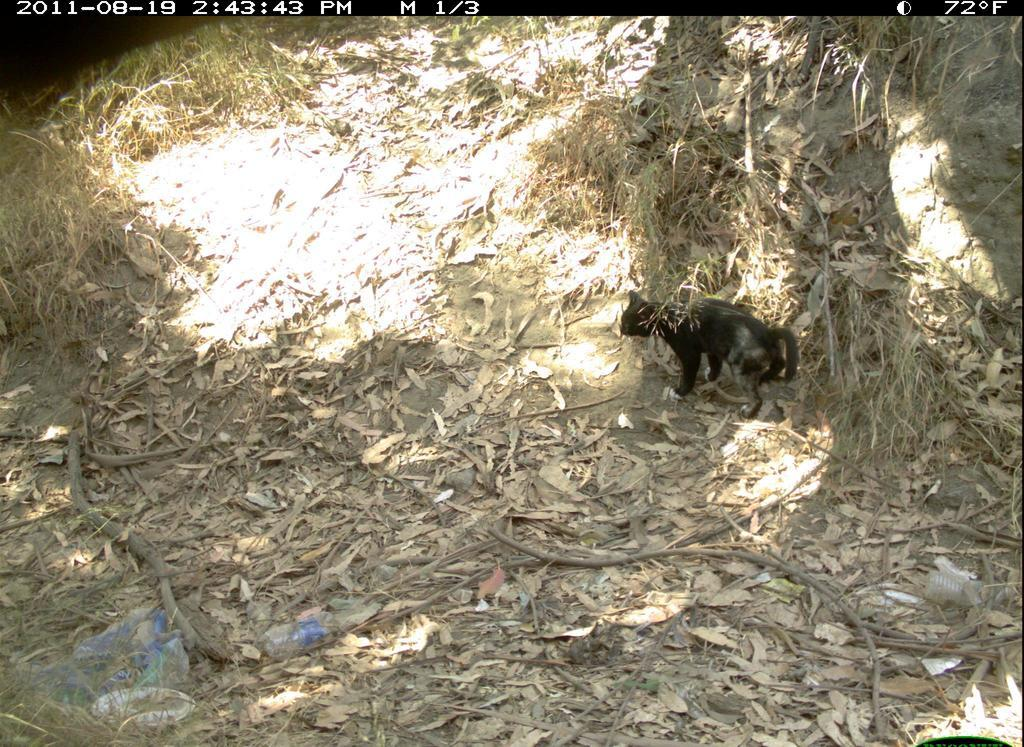cat: (606, 278, 817, 422)
